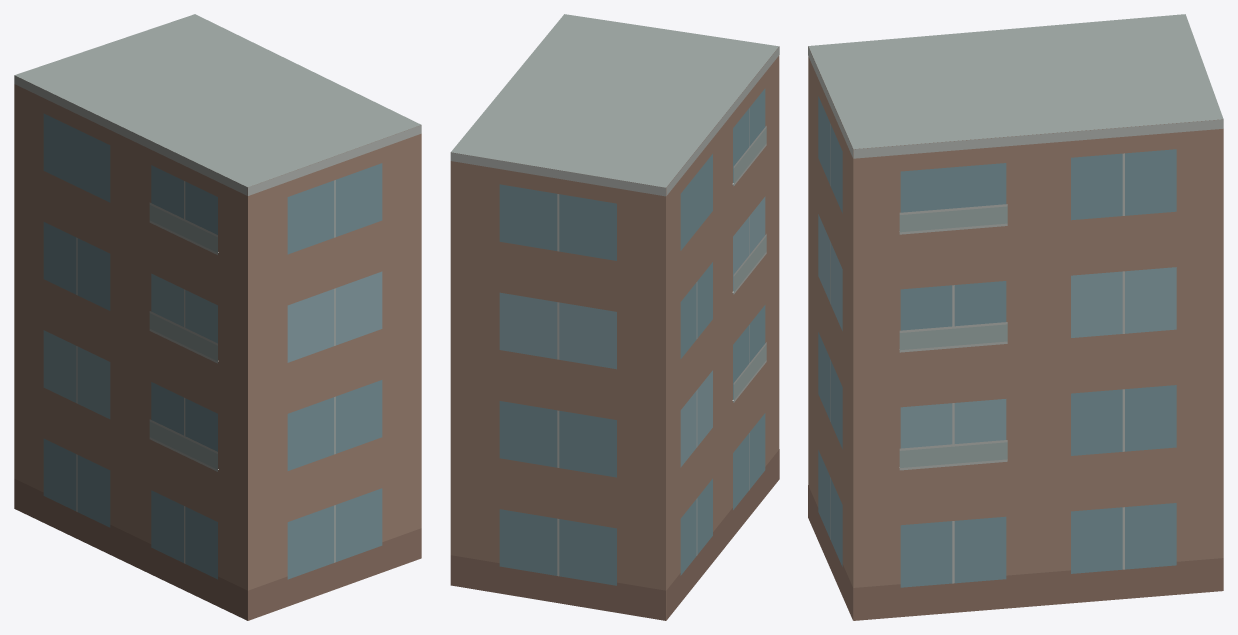
Rendered from survey-upis-32756255.glb.
The picture shows the model from 3 angles, left to right: view 1: azimuth 30°, elevation 25°; view 2: azimuth 150°, elevation 25°; view 3: azimuth 270°, elevation 25°; orthographic projection. The views are drawn at different scales.
Visible parts, largest first — view 1: survey-upis-32756255.tmp; view 2: survey-upis-32756255.tmp; view 3: survey-upis-32756255.tmp.
Boxes of the visible parts, x1,y1,x2,y2 form: survey-upis-32756255.tmp: (14,14,421,620); survey-upis-32756255.tmp: (450,14,779,620); survey-upis-32756255.tmp: (808,14,1223,620).
Bounding box in the file's own units: 7.45 × 12.1 × 9.67.
